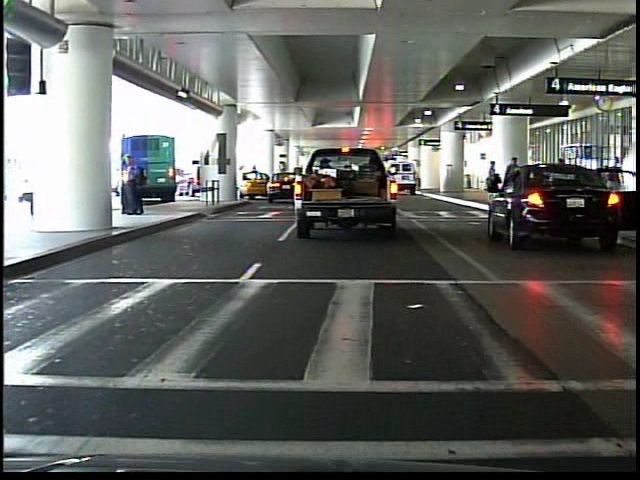person: (120, 151, 147, 218)
